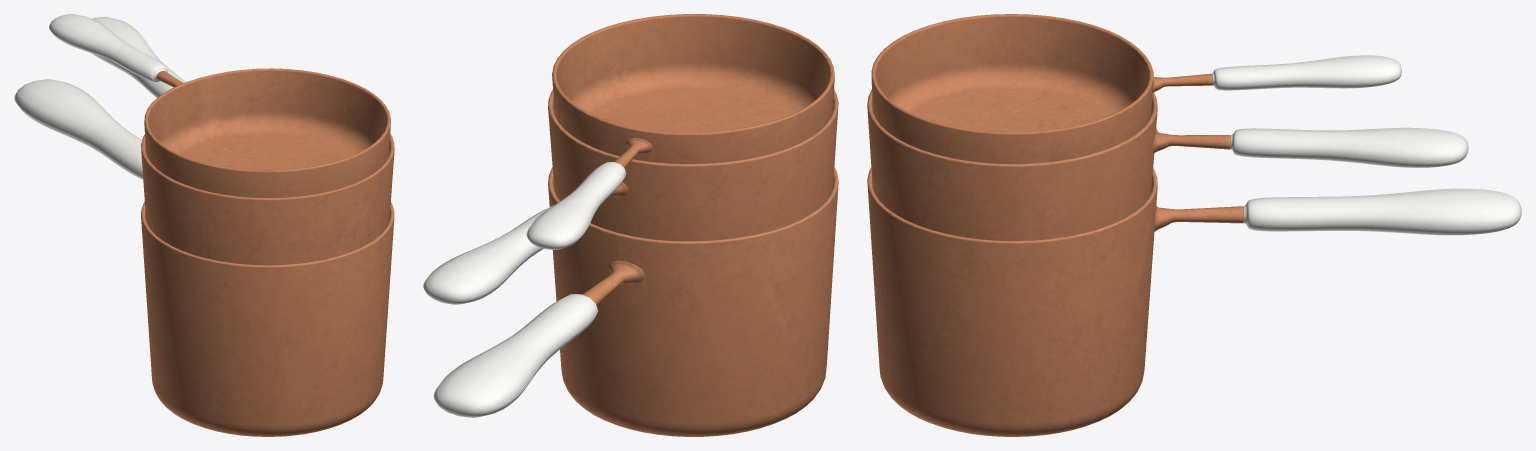
The model's file is bakir-tencere-set.glb.
The picture shows the model from 3 angles, left to right: view 1: azimuth 30°, elevation 25°; view 2: azimuth 150°, elevation 25°; view 3: azimuth 270°, elevation 25°; orthographic projection. The views are drawn at different scales.
Visible parts, largest first — view 1: Pots, Pots.002, Pots.001; view 2: Pots, Pots.002, Pots.001; view 3: Pots, Pots.002, Pots.001.
Part boxes in pixels (left/top/right/bottom): Pots: left=14, top=79, right=394, bottom=436; Pots.002: left=49, top=14, right=390, bottom=197; Pots.001: left=91, top=17, right=394, bottom=265; Pots: left=433, top=167, right=838, bottom=436; Pots.002: left=526, top=14, right=834, bottom=249; Pots.001: left=423, top=90, right=838, bottom=304; Pots: left=867, top=168, right=1521, bottom=436; Pots.002: left=871, top=14, right=1401, bottom=163; Pots.001: left=867, top=89, right=1468, bottom=240.
Bounding box in the file's own units: 0.2028 × 0.2434 × 0.457.
Materials: 2 (2 with a texture image).
